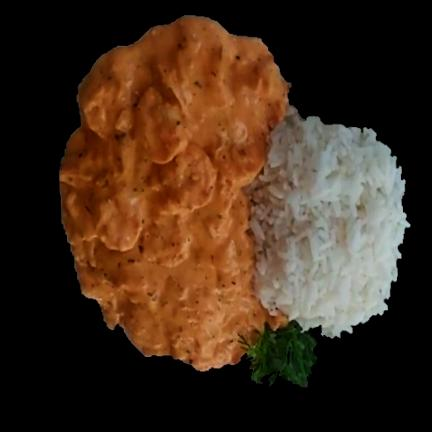chicken: (59, 16, 288, 369)
rice: (249, 106, 409, 336)
